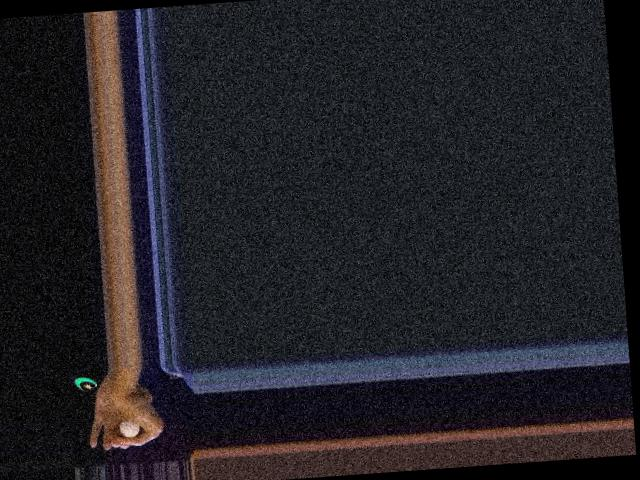egg: (119, 420, 141, 438)
